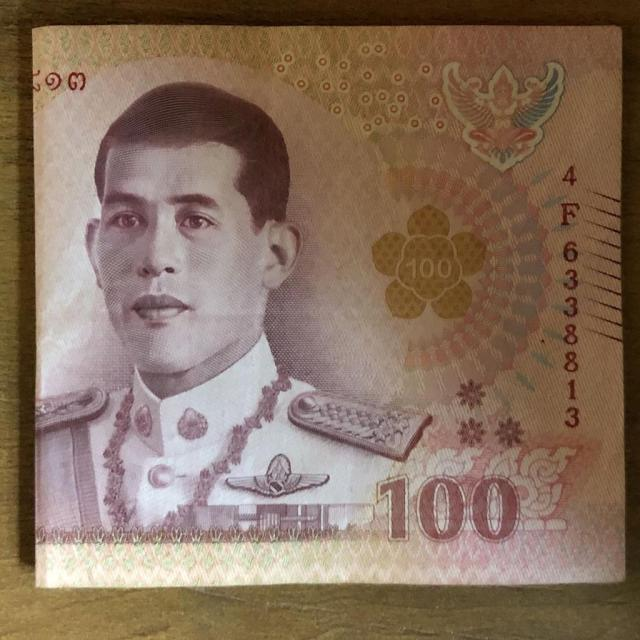THAI100: (33, 25, 625, 588)
